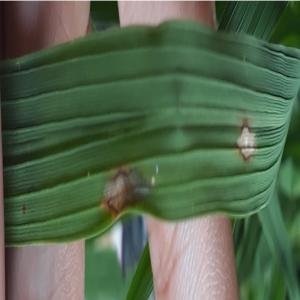Busuk Leher: (102, 162, 159, 216), (233, 116, 261, 166)
